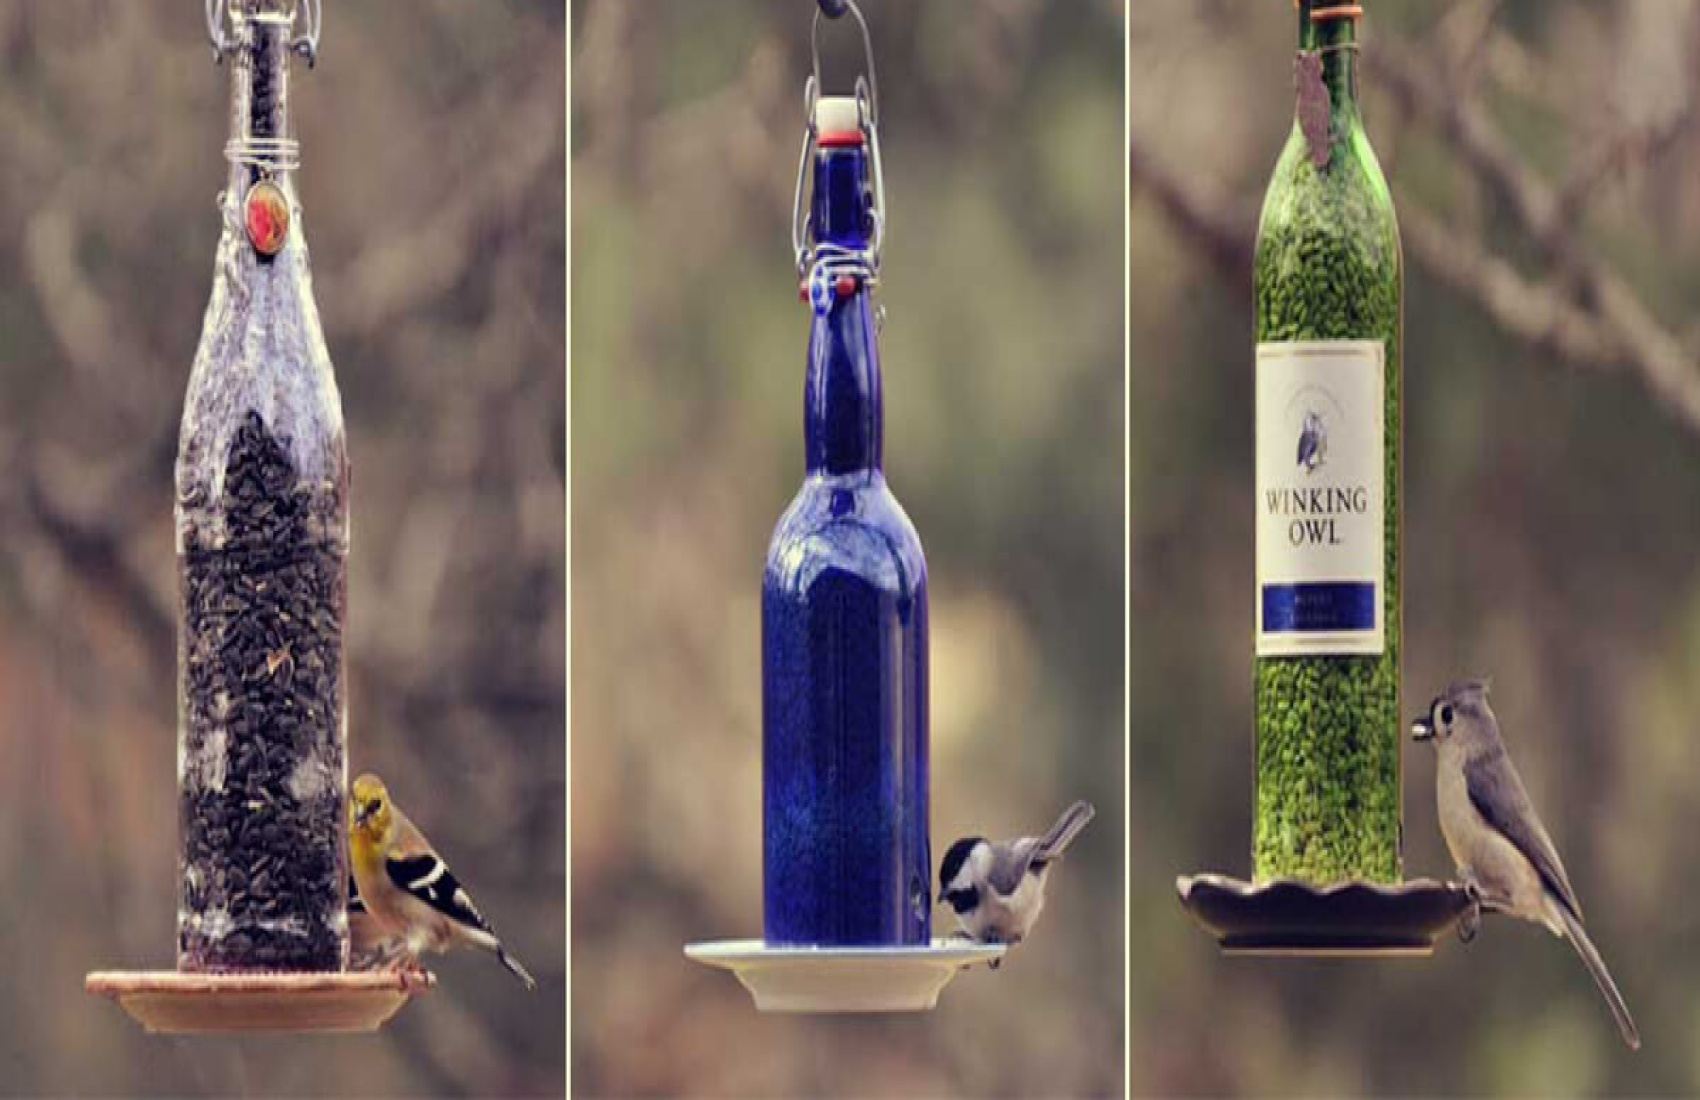wine: (755, 97, 931, 949), (1247, 43, 1422, 896), (173, 119, 349, 971)
